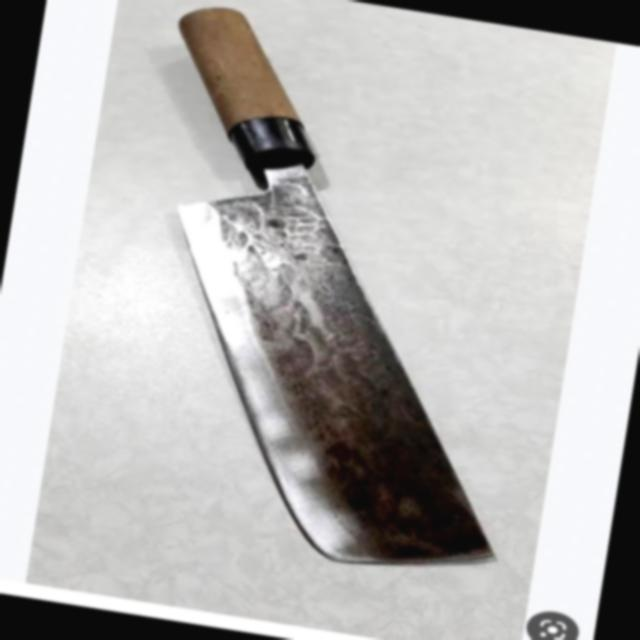knife: (82, 1, 593, 592)
